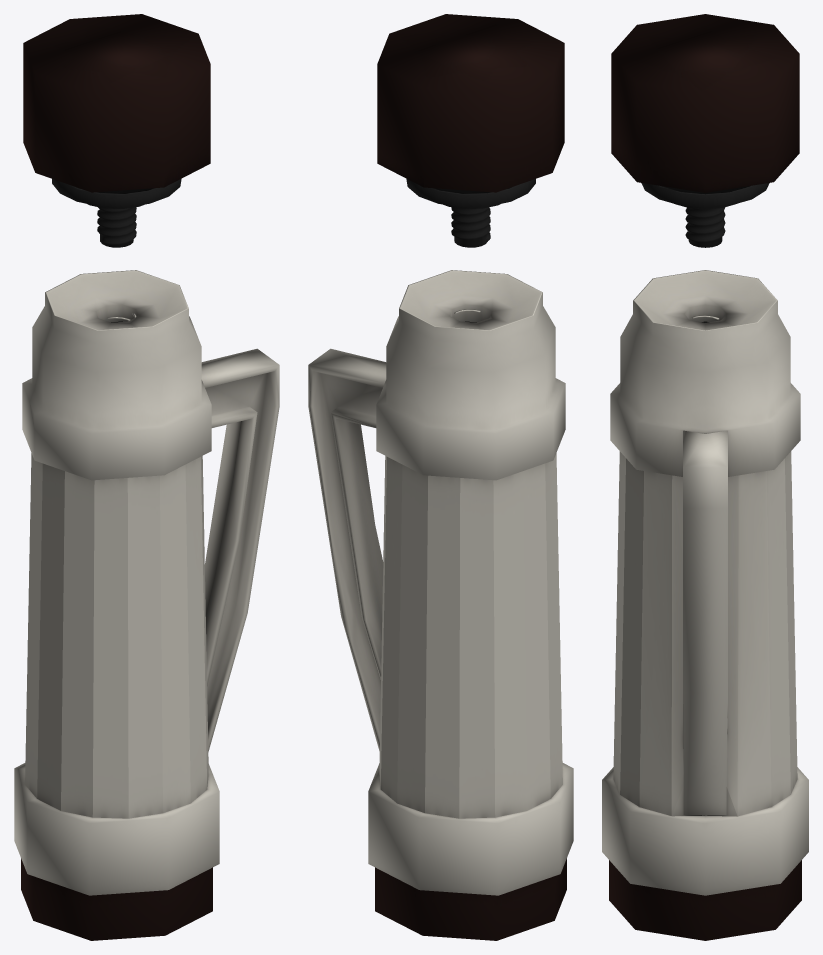
The model's file is objl.glb.
3 renders of one model, left to right at view 1: azimuth 30°, elevation 25°; view 2: azimuth 150°, elevation 25°; view 3: azimuth 270°, elevation 25°, orthographic.
Parts seen in each view (by area): view 1: coffeebottle; view 2: coffeebottle; view 3: coffeebottle.
Boxes of the visible parts, x1,y1,x2,y2 form: coffeebottle: [14, 14, 279, 940]; coffeebottle: [308, 14, 573, 940]; coffeebottle: [602, 14, 808, 940].
Size of the model in its own units: 0.1049 by 0.3517 by 0.0779.
1 material, 1 textured.
